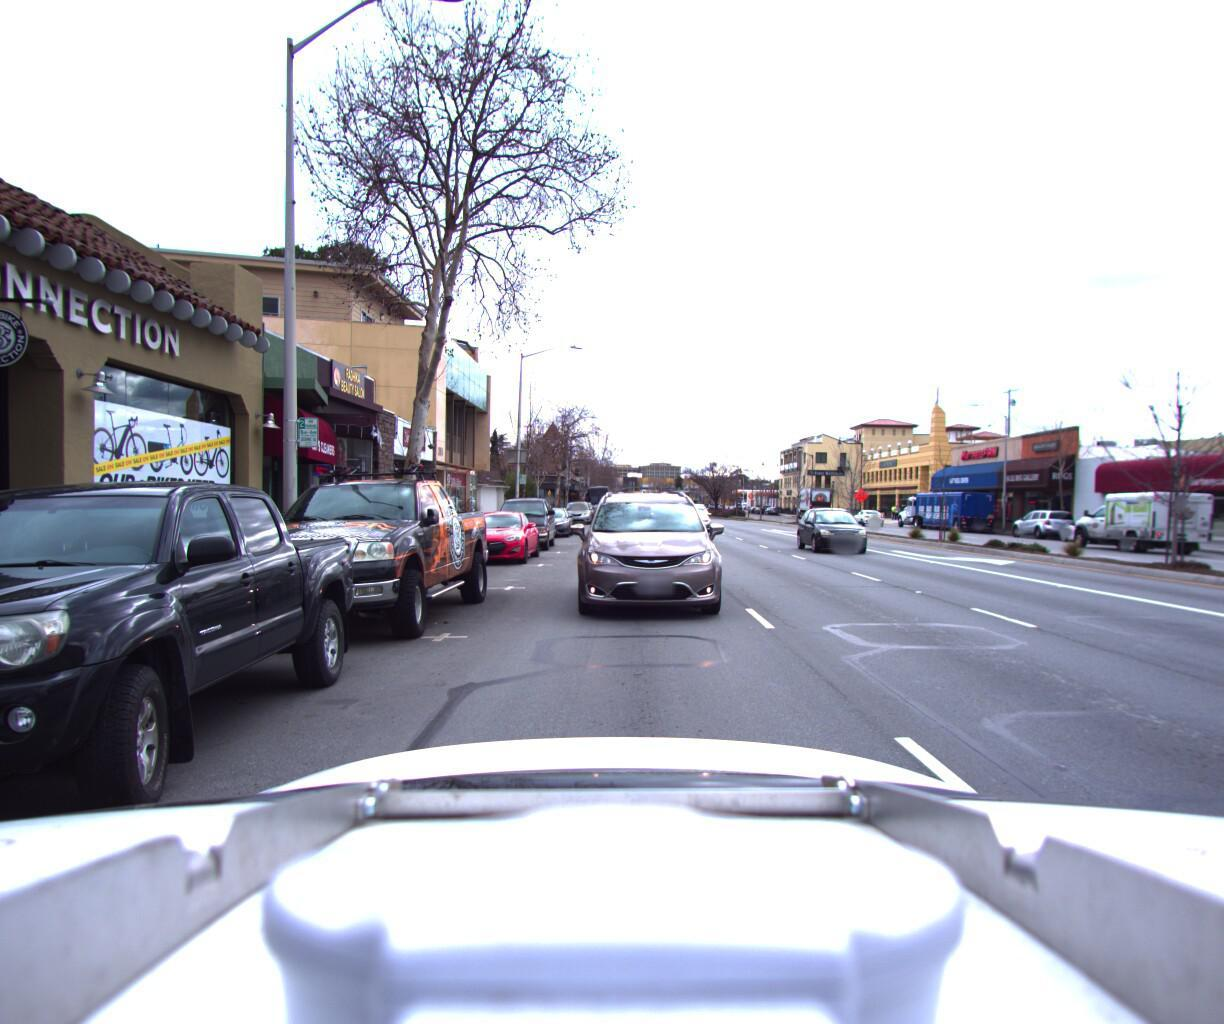car: (201, 443, 502, 650), (564, 470, 727, 626), (449, 499, 546, 562), (490, 484, 562, 548), (798, 499, 885, 552), (1006, 503, 1081, 534), (529, 496, 576, 534), (677, 505, 718, 534), (562, 492, 593, 520), (849, 504, 885, 522)
truck: (1041, 487, 1194, 551), (894, 489, 997, 528)
